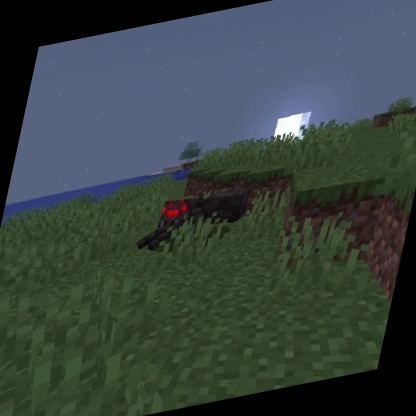spider: (130, 179, 254, 256)
